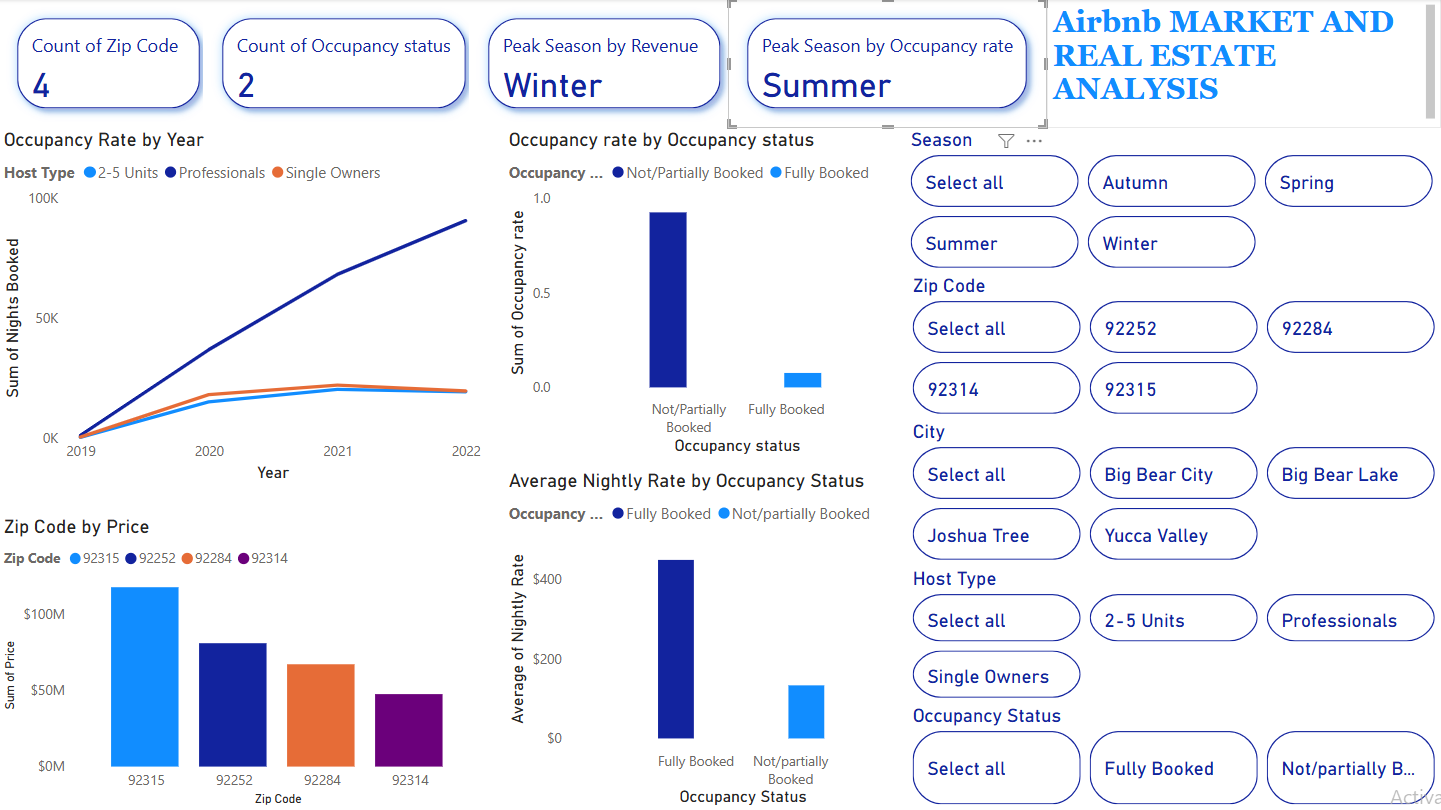

Layout of this report page (visuals, bound fields, positions):
{"tool":"powerbi","page":{"name":"Dashboard 4","canvas":[1280,720],"ordinal":3},"visuals":[{"type":"lineChart","title":"Occupancy Rate by Year","fields":{"Category":["market_analysis_clean.Date.Variation.Date Hierarchy.Year"],"Series":["market_analysis_clean.Host Type"],"Y":["Sum(market_analysis_clean.Nights Booked)"]},"box":[0,114.4,432.7,318.3],"z":0},{"type":"columnChart","title":"Zip Code by Price","fields":{"Category":["sales_properties.Zip Code"],"Y":["Sum(sales_properties.Price)"],"Series":["sales_properties.Zip Code"]},"box":[0,457.5,432.7,262.5],"z":1000},{"type":"clusteredColumnChart","title":"Average Nightly Rate by Occupancy Status","fields":{"Category":["market_analysis_clean.Occupancy Status"],"Y":["Avg(market_analysis_clean.Nightly Rate)"],"Series":["market_analysis_clean.Occupancy Status"]},"box":[447.8,416.7,368.9,303.3],"z":2000},{"type":"textbox","box":[930.1,0,349.4,114.4],"z":3000},{"type":"cardVisual","fields":{"Data":["Min(sales_properties.Zip Code)"]},"box":[0,0,196.8,114.4],"z":4000},{"type":"cardVisual","fields":{"Data":["Count(Calculations.Occupancy status)"]},"box":[181.8,0,250.9,114.4],"z":5000},{"type":"cardVisual","fields":{"Data":["market_analysis_clean.Peak Season"]},"box":[417.6,0,240.3,114.4],"z":6000},{"type":"clusteredColumnChart","title":"Occupancy rate by Occupancy status","fields":{"Category":["Calculations.Occupancy status"],"Y":["Sum(Calculations.Occupancy rate)"],"Series":["Calculations.Occupancy status"]},"box":[447.8,114.4,368.9,294.4],"z":7000},{"type":"cardVisual","fields":{"Data":["Amenities calculations (2).Peak Season Name"]},"box":[647.3,0,282.9,114.4],"z":8000},{"type":"advancedSlicerVisual","fields":{"Values":["market_analysis_clean.Season"]},"box":[804.2,114.4,474.4,129.5],"z":8001},{"type":"advancedSlicerVisual","fields":{"Values":["market_analysis_clean.Zip Code"]},"box":[806,243.8,474.4,129.5],"z":8002},{"type":"advancedSlicerVisual","fields":{"Values":["market_analysis_clean.City"]},"box":[806,373.3,474.4,129.5],"z":8003},{"type":"advancedSlicerVisual","fields":{"Values":["market_analysis_clean.Host Type"]},"box":[806,503.6,474.4,121.5],"z":8004},{"type":"advancedSlicerVisual","fields":{"Values":["market_analysis_clean.Occupancy Status"]},"box":[806,625.1,474.4,94.9],"z":8005}]}

Visuals, with their boxes in screenshot pixels (x1, y1, x2, y2), scaled from the page's 1280x720 canvas onto the 1441x810 screenshot:
"Occupancy Rate by Year" lineChart: Rect(0, 129, 487, 487)
"Zip Code by Price" columnChart: Rect(0, 515, 487, 809)
"Average Nightly Rate by Occupancy Status" clusteredColumnChart: Rect(504, 469, 919, 809)
textbox: Rect(1047, 0, 1440, 129)
cardVisual - Min(sales_properties.Zip Code): Rect(0, 0, 222, 129)
cardVisual - Count(Calculations.Occupancy status): Rect(205, 0, 487, 129)
cardVisual - market_analysis_clean.Peak Season: Rect(470, 0, 741, 129)
"Occupancy rate by Occupancy status" clusteredColumnChart: Rect(504, 129, 919, 460)
cardVisual - Amenities calculations (2).Peak Season Name: Rect(729, 0, 1047, 129)
advancedSlicerVisual - market_analysis_clean.Season: Rect(905, 129, 1439, 274)
advancedSlicerVisual - market_analysis_clean.Zip Code: Rect(907, 274, 1440, 420)
advancedSlicerVisual - market_analysis_clean.City: Rect(907, 420, 1440, 566)
advancedSlicerVisual - market_analysis_clean.Host Type: Rect(907, 567, 1440, 703)
advancedSlicerVisual - market_analysis_clean.Occupancy Status: Rect(907, 703, 1440, 809)
